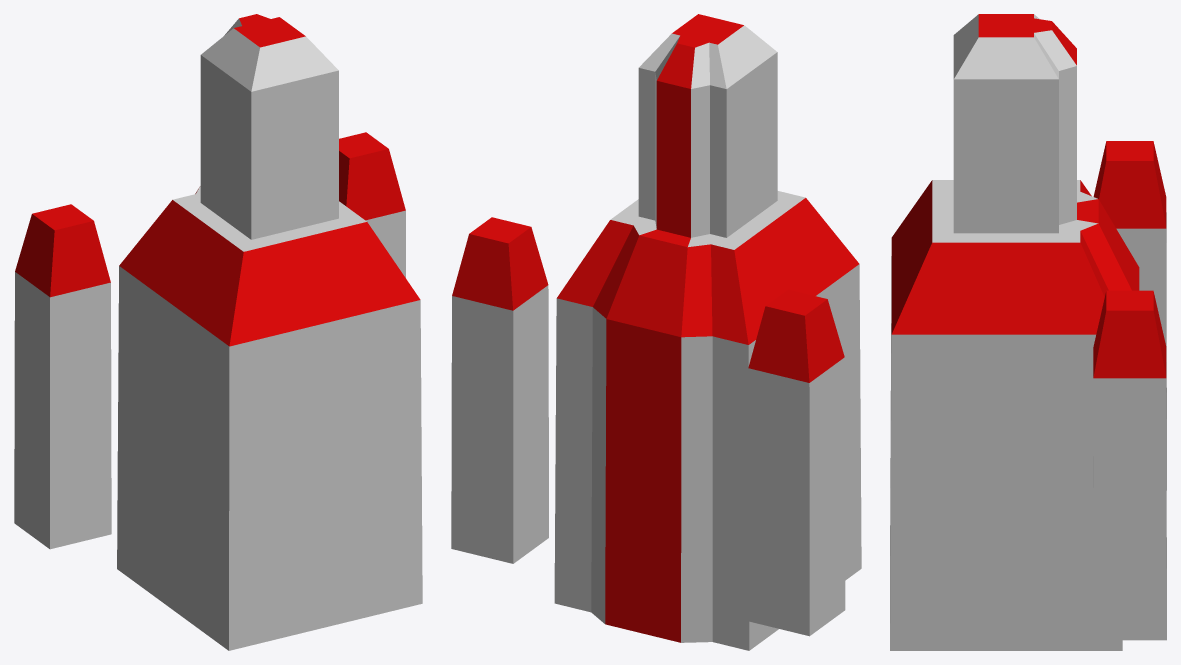
File: Castle.fbx
The picture shows the model from 3 angles, left to right: view 1: azimuth 30°, elevation 25°; view 2: azimuth 150°, elevation 25°; view 3: azimuth 270°, elevation 25°; orthographic projection. The views are drawn at different scales.
Visible parts, largest first — view 1: Cube.004; view 2: Cube.004; view 3: Cube.004.
Part boxes in pixels (x1,y1,x2,y2): Cube.004: [14, 14, 422, 650]; Cube.004: [451, 14, 861, 650]; Cube.004: [890, 14, 1166, 650].
Size of the model in its own units: 6129 by 9099 by 3964.
